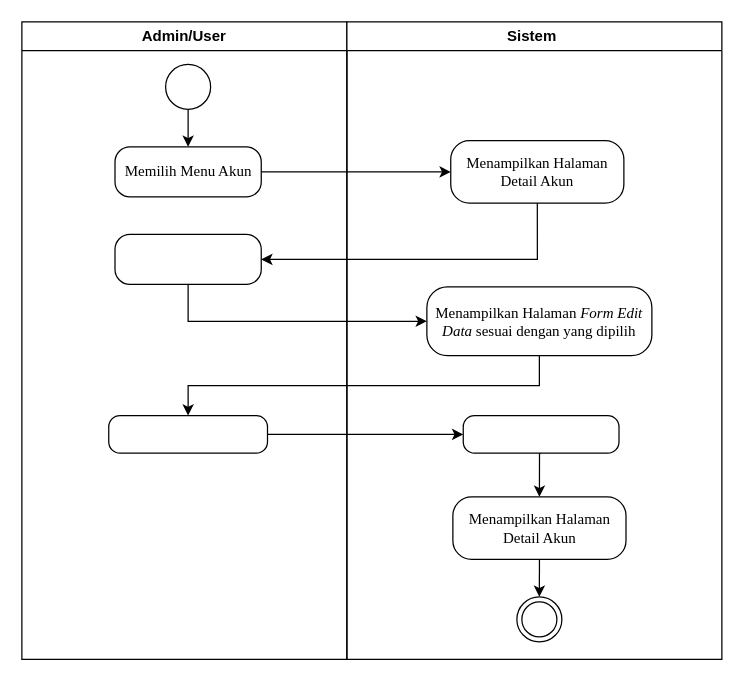
This 744x681 diagram has some shape labels left out. The centre of each missing label's shape, as x and y in pixels:
"Memilih data yang akan diubah" belongs at (x=187, y=258).
"Mengisi Data Baru" belongs at (x=188, y=433).
"Mengubah Data Akun" belongs at (x=540, y=433).
